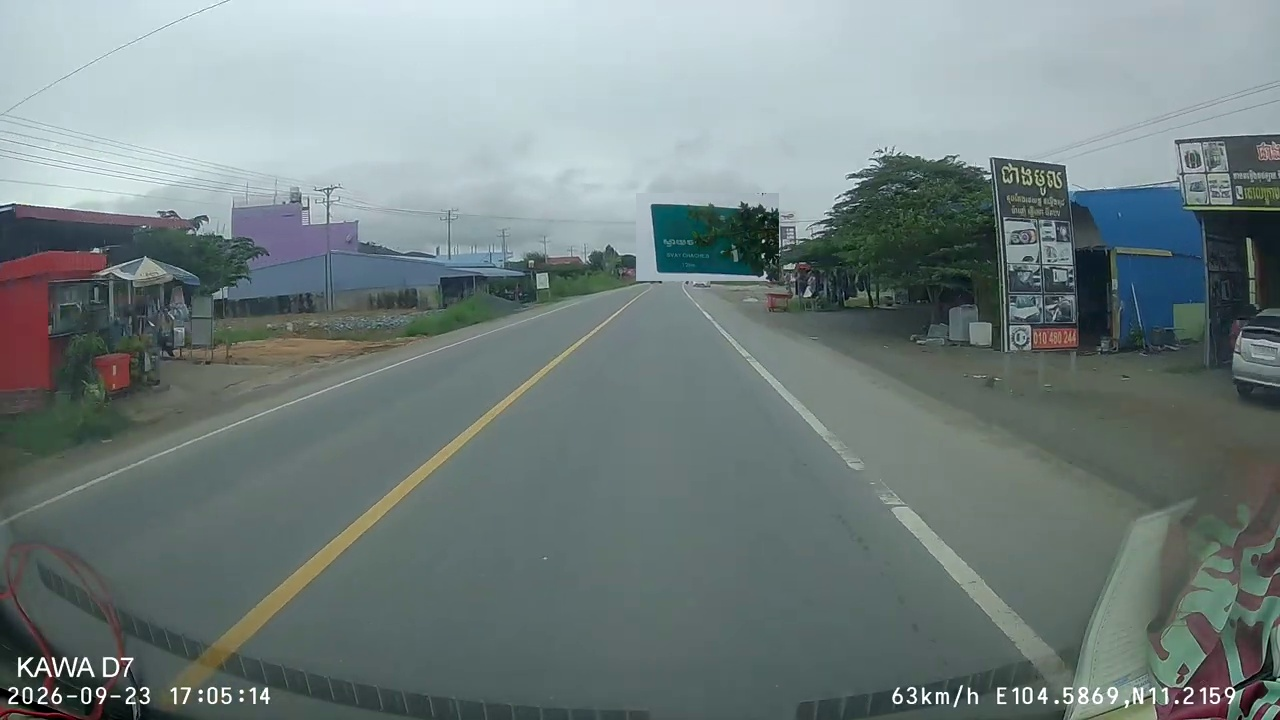direction_sign: (636, 193, 779, 281)
